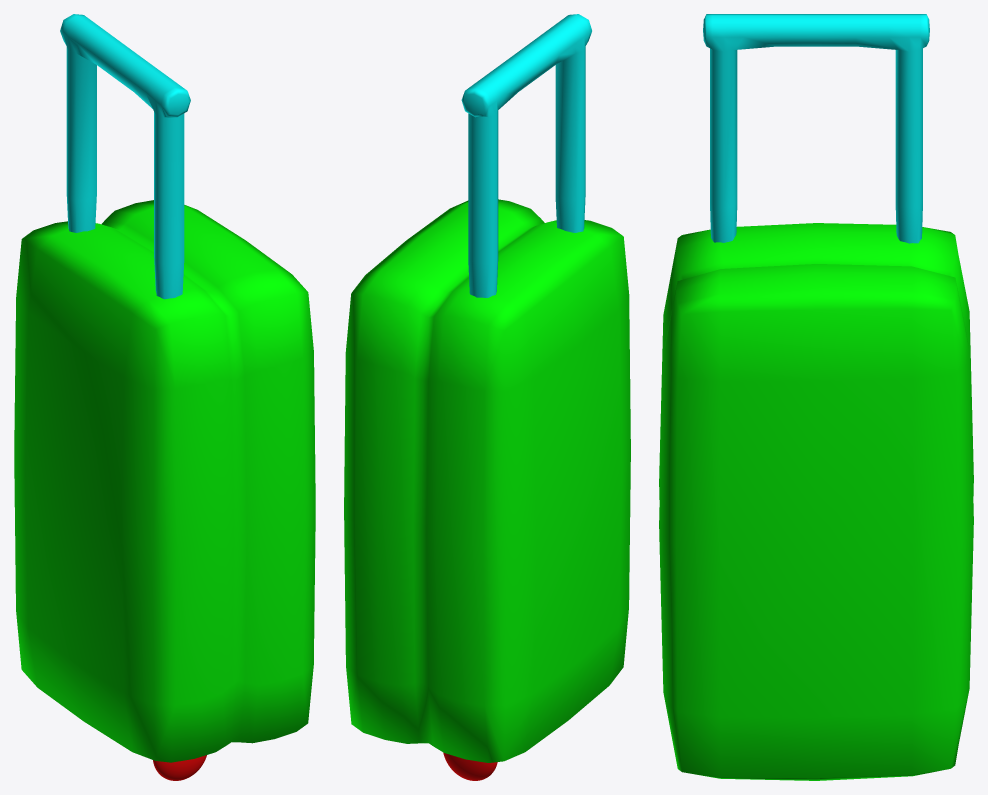
Rendered from valise.fbx.
3 views of the same model, side by side, from view 1: azimuth 30°, elevation 25°; view 2: azimuth 150°, elevation 25°; view 3: azimuth 270°, elevation 25° (orthographic). The views are drawn at different scales.
Parts seen in each view (by area): view 1: pCube177, pCube179, pSphere8; view 2: pCube177, pCube179, pSphere8; view 3: pCube177, pCube179.
Part boxes in pixels (left/top/right/bottom): pCube177: left=14, top=200, right=315, bottom=762; pCube179: left=60, top=14, right=190, bottom=299; pSphere8: left=153, top=755, right=206, bottom=780; pCube177: left=344, top=199, right=630, bottom=762; pCube179: left=461, top=14, right=591, bottom=297; pSphere8: left=443, top=752, right=497, bottom=780; pCube177: left=659, top=223, right=973, bottom=780; pCube179: left=703, top=14, right=929, bottom=243.
Size of the model in its own units: 4.53 by 15.81 by 6.11.
